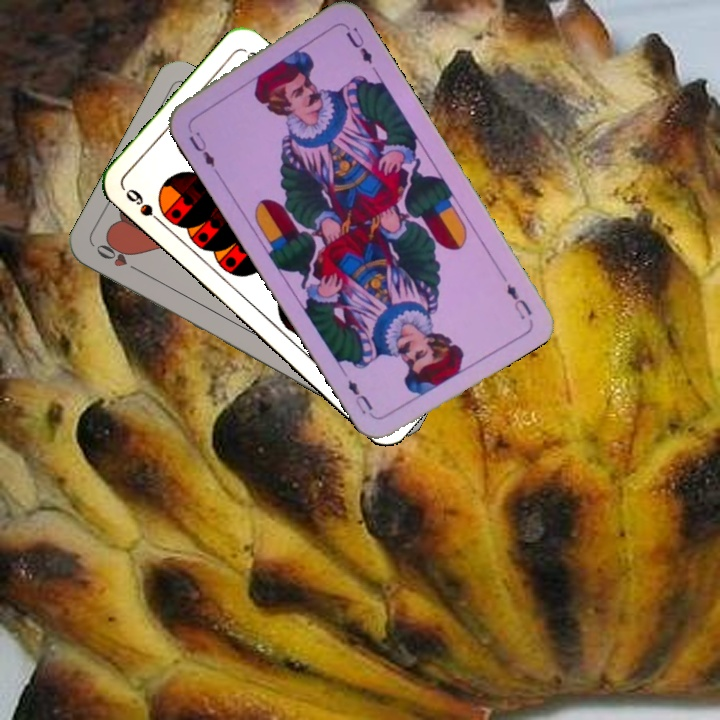EU: (184, 127, 218, 171), (502, 280, 535, 323)
HO: (91, 239, 145, 276)
S9: (121, 184, 169, 230)
